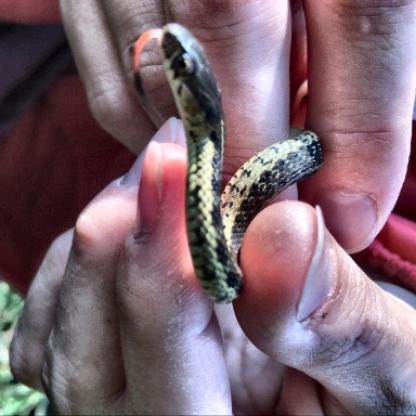Snake: (159, 23, 324, 308)
